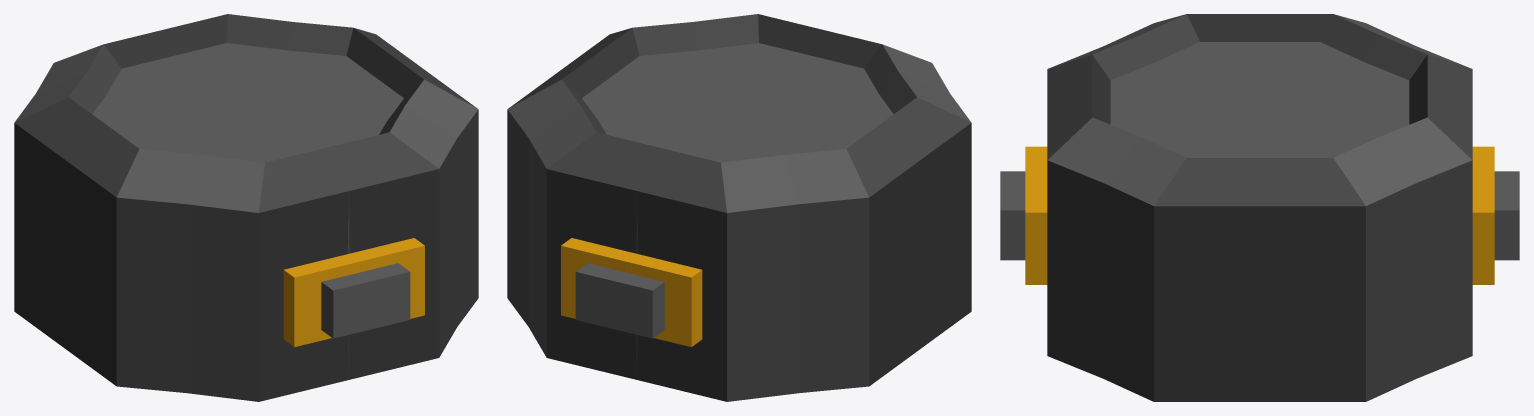
The model's file is SmallReactor (1).fbx.
The picture shows the model from 3 angles, left to right: view 1: azimuth 30°, elevation 25°; view 2: azimuth 150°, elevation 25°; view 3: azimuth 270°, elevation 25°; orthographic projection. The views are drawn at different scales.
Visible parts, largest first — view 1: Куб; view 2: Куб; view 3: Куб.
Boxes of the visible parts, box(x1,y1,x2,y2) form: Куб: box(14, 14, 478, 401); Куб: box(507, 14, 971, 401); Куб: box(1000, 14, 1519, 401).
Size of the model in its own units: 160 by 91.72 by 192.
